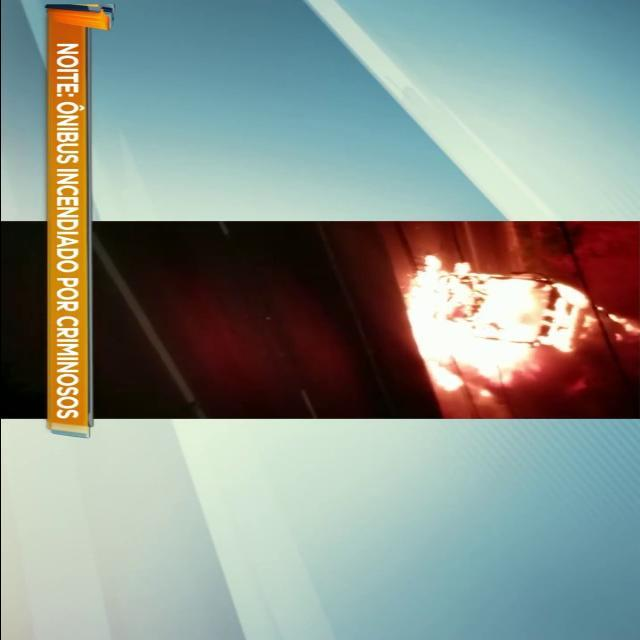Fire: (402, 261, 617, 398)
